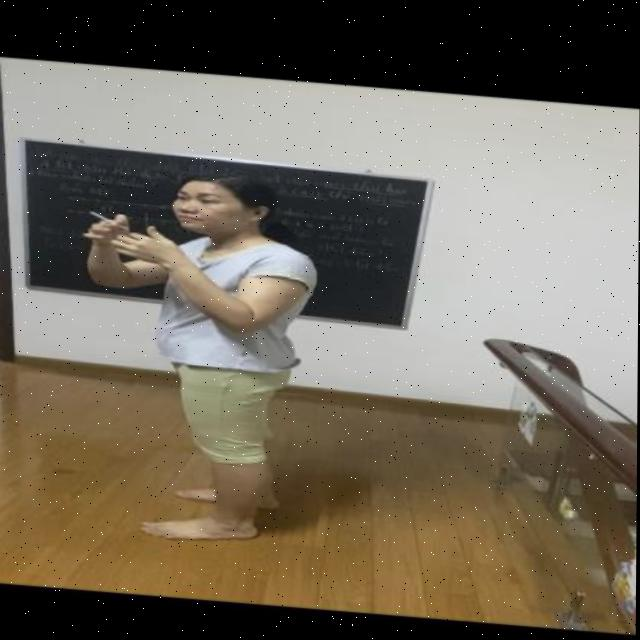cigarette: (88, 208, 132, 232)
